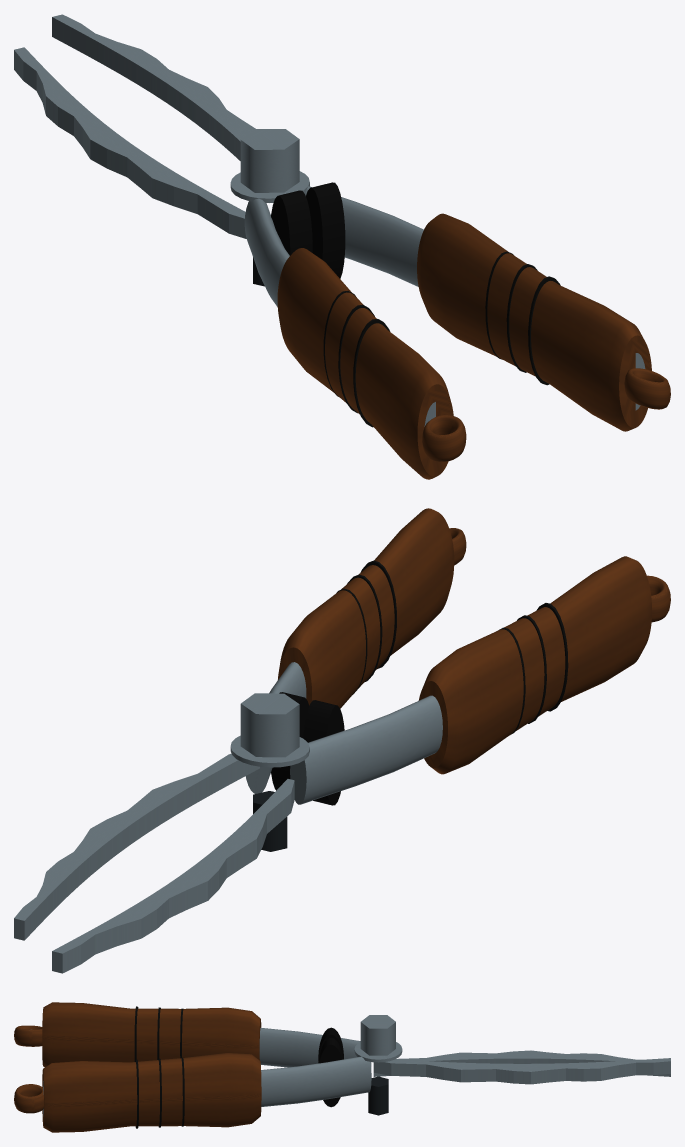
File: HandHedgeShears.gltf
3 views of the same model, one above another, from view 1: azimuth 30°, elevation 25°; view 2: azimuth 150°, elevation 25°; view 3: azimuth 270°, elevation 25° (orthographic). The views are drawn at different scales.
Parts seen in each view (by area): view 1: HandHedgeShears__Body; view 2: HandHedgeShears__Body; view 3: HandHedgeShears__Body.
Part boxes in pixels (x1,y1,x2,y2): HandHedgeShears__Body: (14,14,670,479); HandHedgeShears__Body: (14,508,670,973); HandHedgeShears__Body: (14,1002,670,1132).
Size of the model in its own units: 0.2123 by 0.1183 by 0.7968.
1 material, 1 textured.
